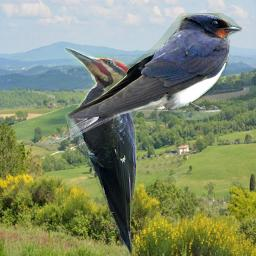Swallow: (45, 13, 242, 150)
Woodpecker: (62, 46, 142, 255)
